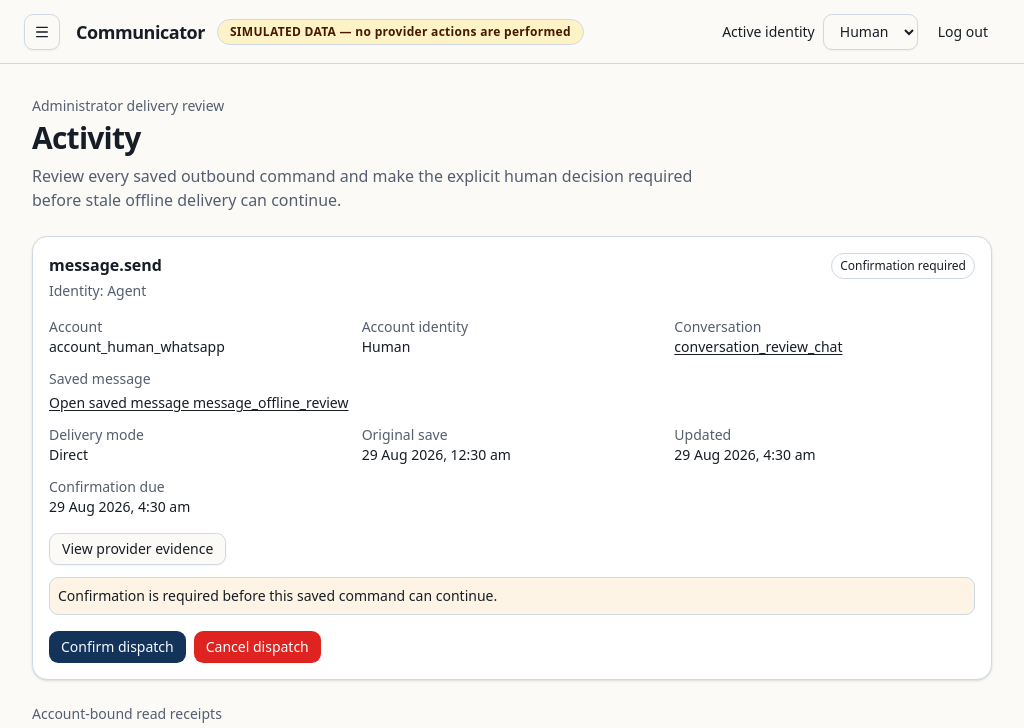
it: administrator activity › shows a stale decision rejection with a refresh control
Click the button "Confirm dispatch" at coordinates (117, 647), box [49, 631, 186, 663]
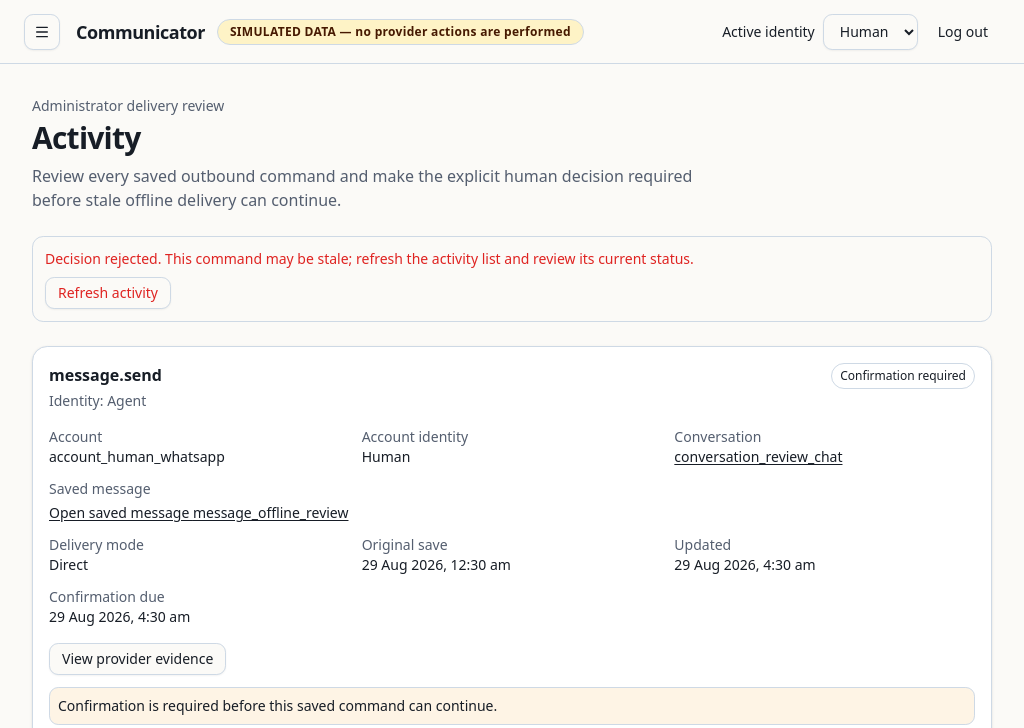
Now the 2nd message shows "Decision rejected", box [45, 249, 694, 268]
Now the button "Refresh activity" is shown, box [45, 277, 171, 309]
